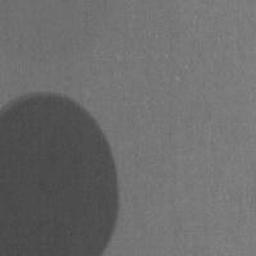Oil spot: (0, 90, 120, 256)
